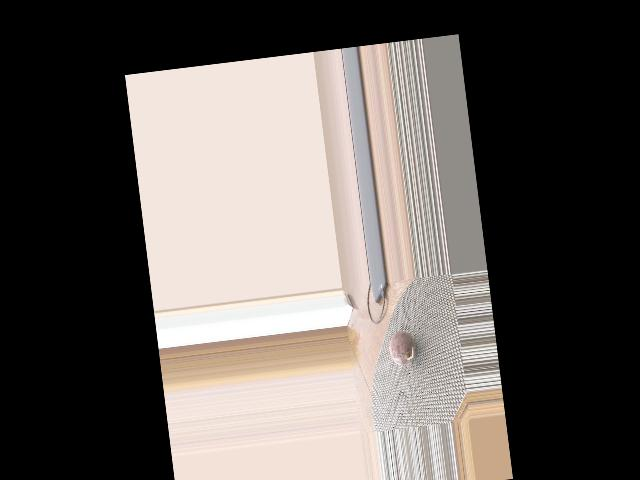beet: (387, 329, 417, 366)
